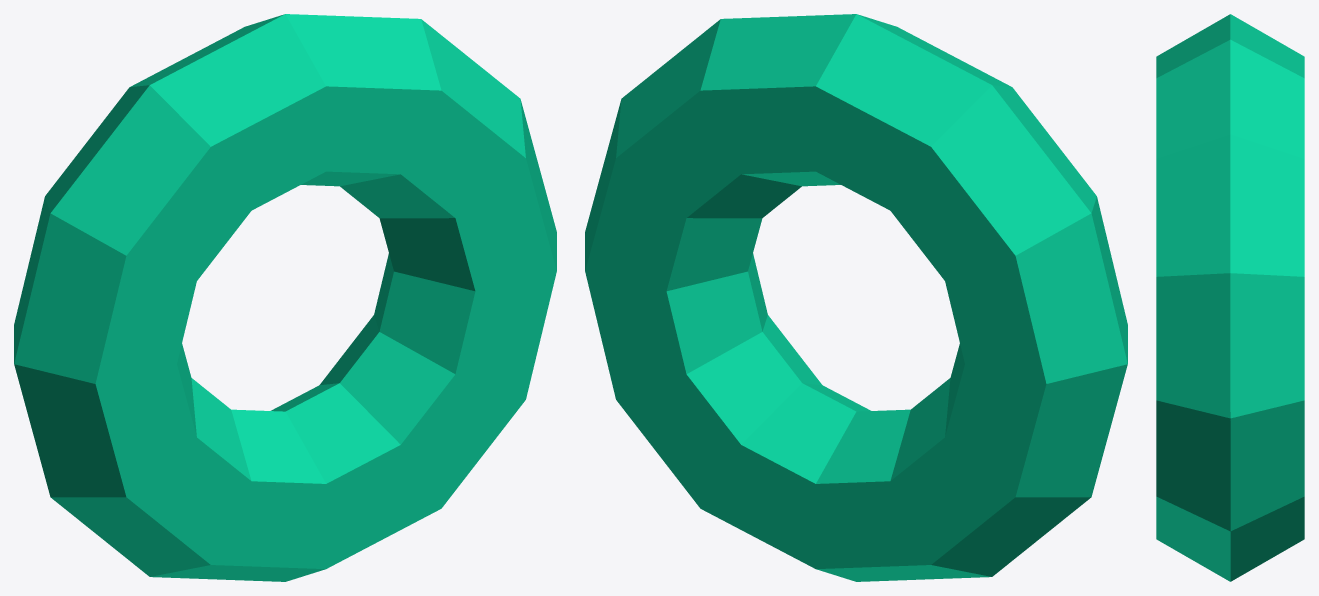
The model's file is ring.glb.
3 views of the same model, side by side, from view 1: azimuth 30°, elevation 25°; view 2: azimuth 150°, elevation 25°; view 3: azimuth 270°, elevation 25° (orthographic). The views are drawn at different scales.
Visible parts, largest first — view 1: Torus; view 2: Torus; view 3: Torus.
Boxes of the visible parts, bbox=[...] form: Torus: bbox=[14, 14, 556, 581]; Torus: bbox=[585, 14, 1127, 581]; Torus: bbox=[1156, 14, 1304, 581].
Bounding box in the file's own units: 1 × 1 × 0.2598.
